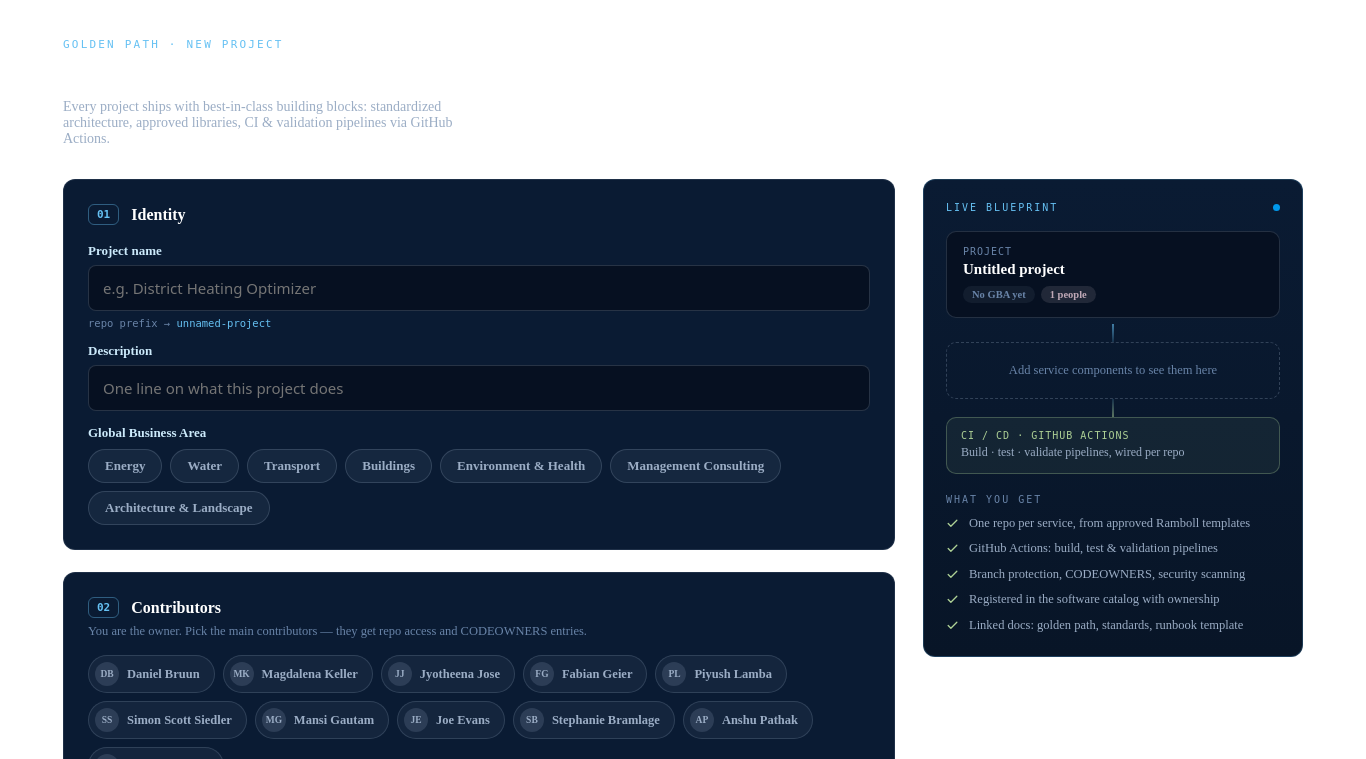
Test: WizardScreen › disables Initialize and lists every missing part until the draft is complete
Type "District Heating Optimizer" into the field with placeholder "e.g. District Heating Optimizer".
click(479, 288); type("District Heating Optimizer")  # box [88,265,870,311]
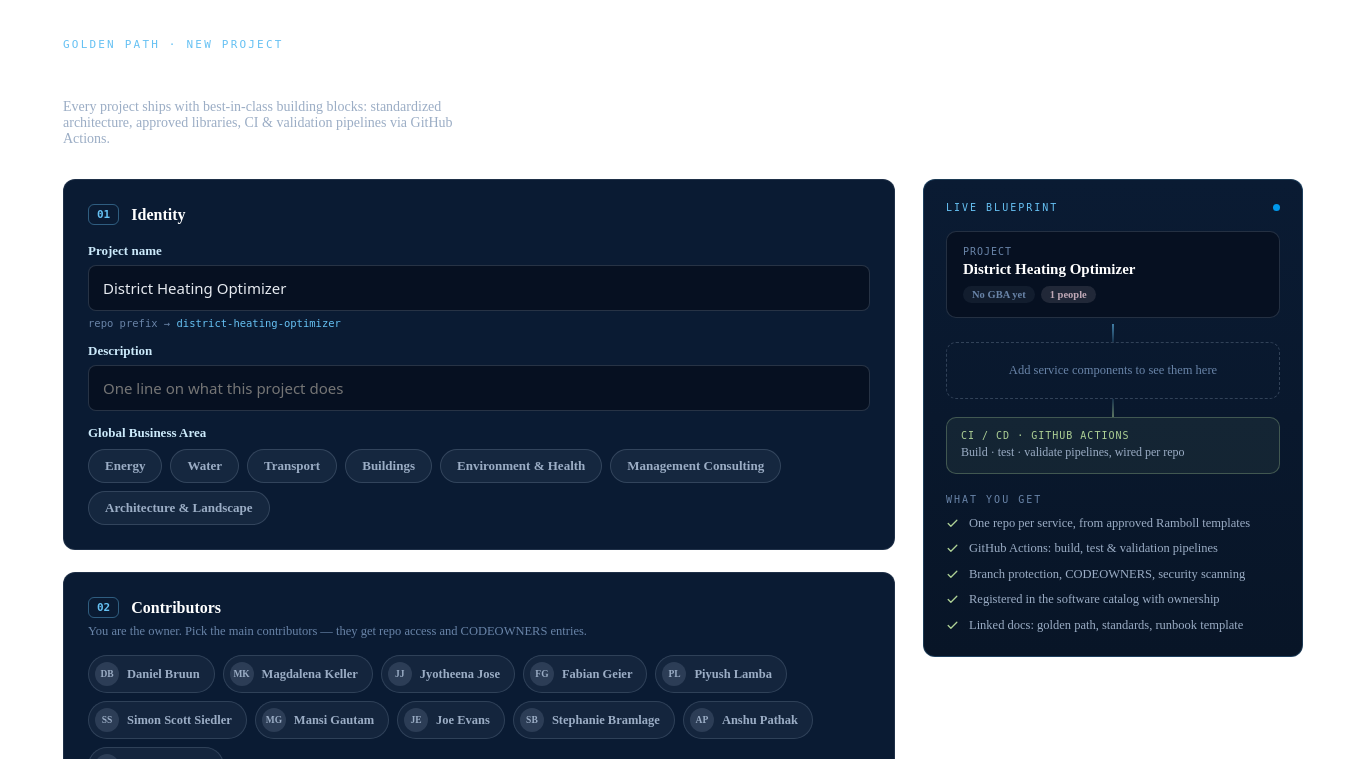
Click the text "Energy".
click(125, 466)  # box [88,449,162,483]
(page scrolled)
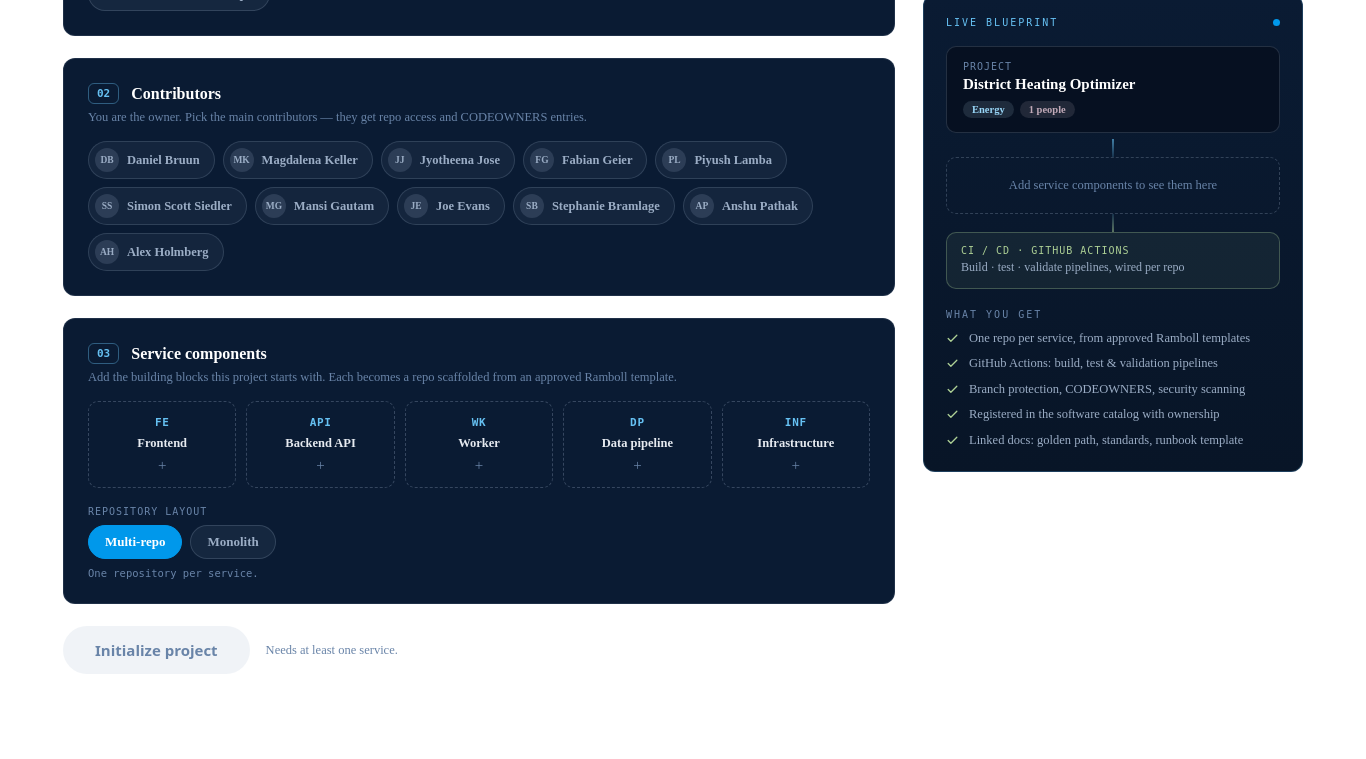
Click the text "Backend API".
click(321, 444)  # box [285,436,356,451]
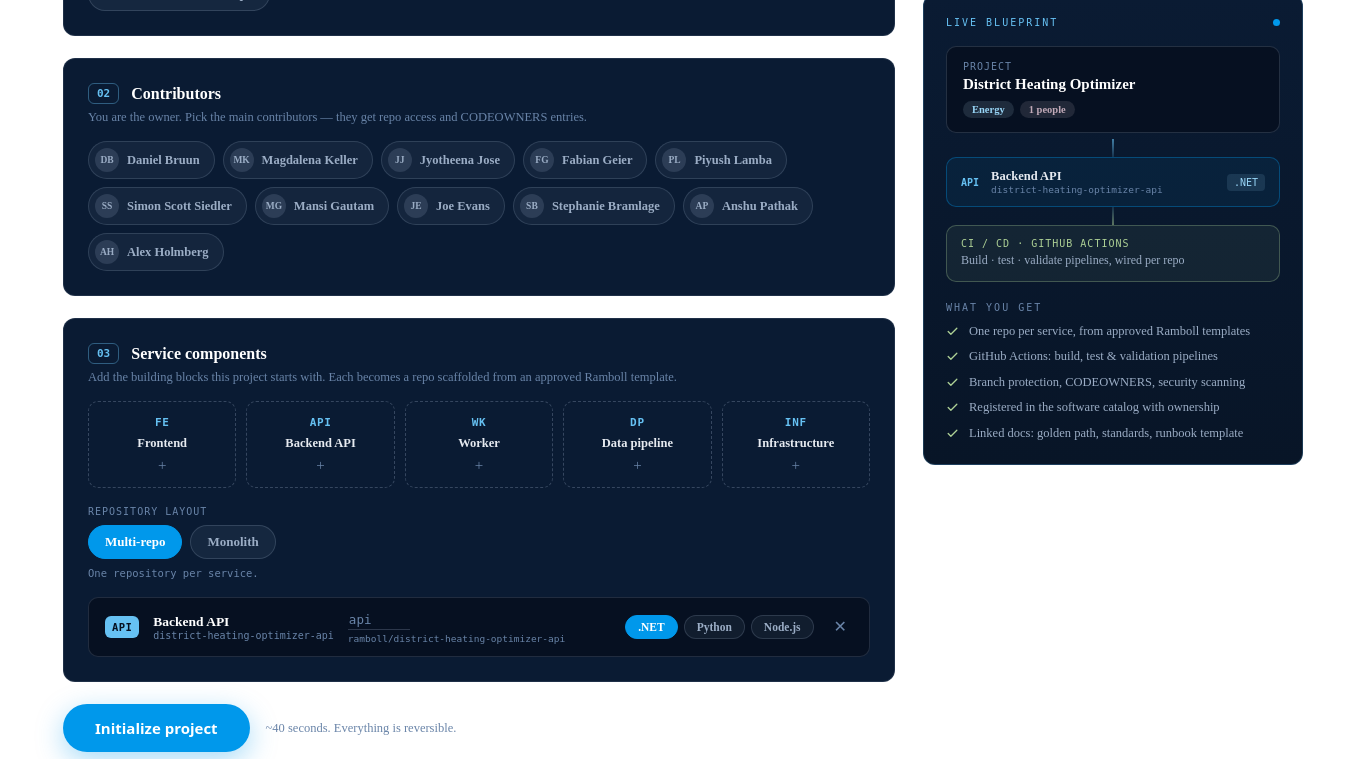
Check: the button "Initialize project" is enabled, box [63,704,250,752]
Check: the text "~40 seconds. Everything is reversible." is shown, box [266,720,456,736]
